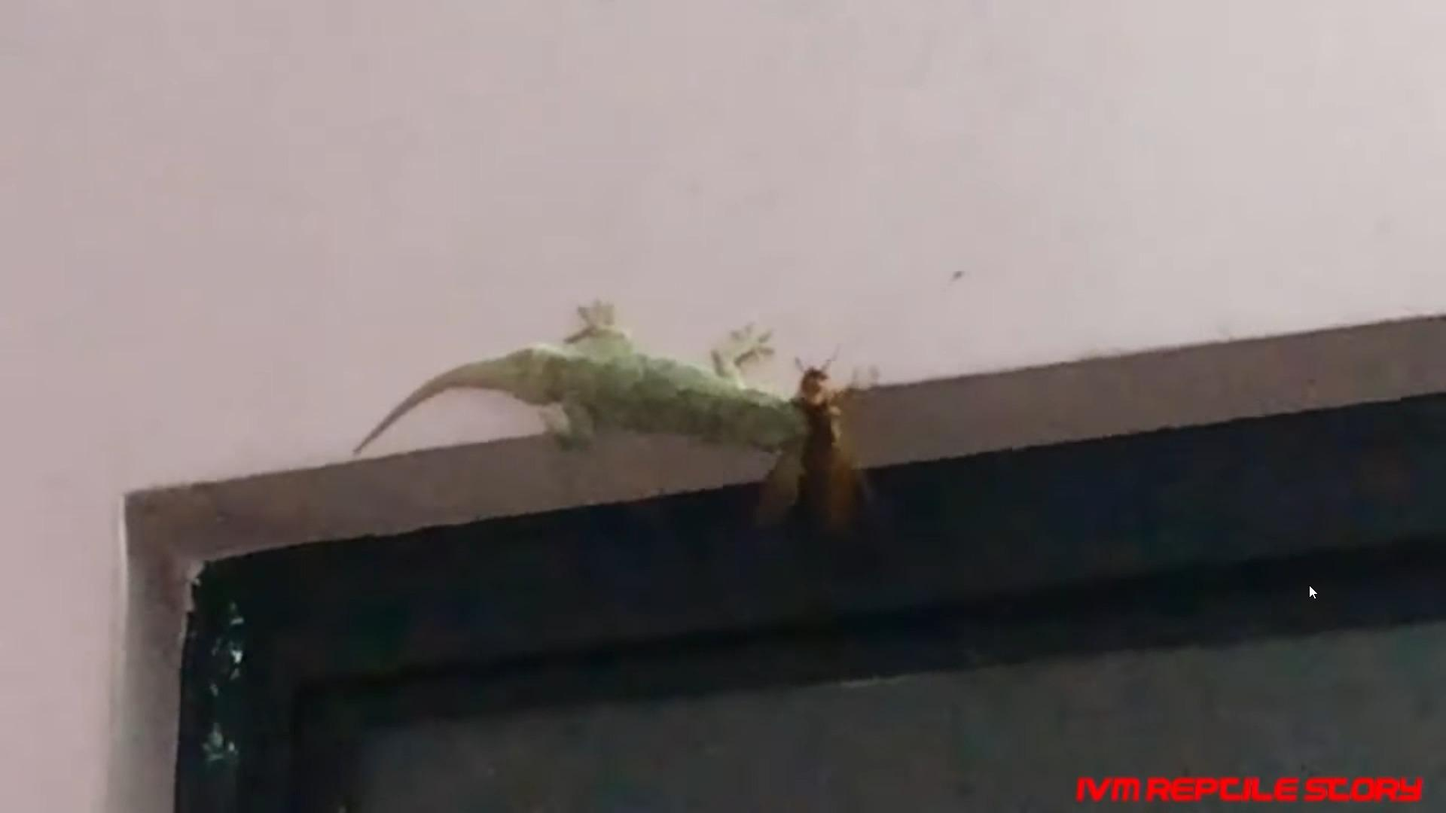cockroach: (787, 352, 866, 541)
lizard: (347, 257, 794, 472)
